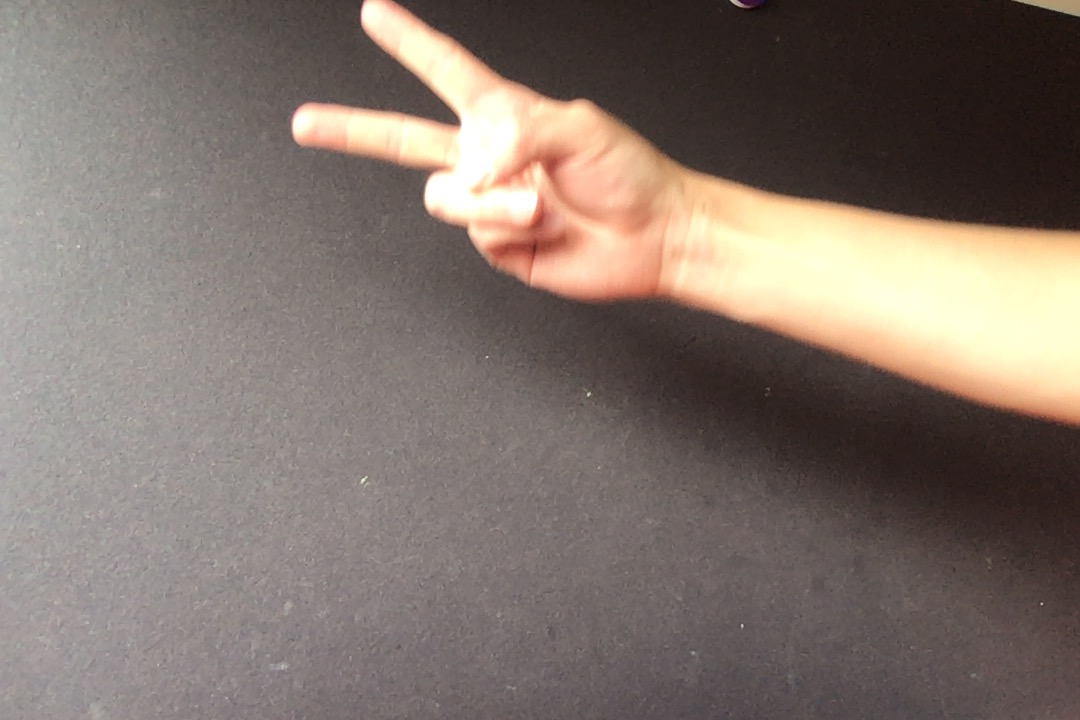peacesign: (282, 1, 667, 318)
